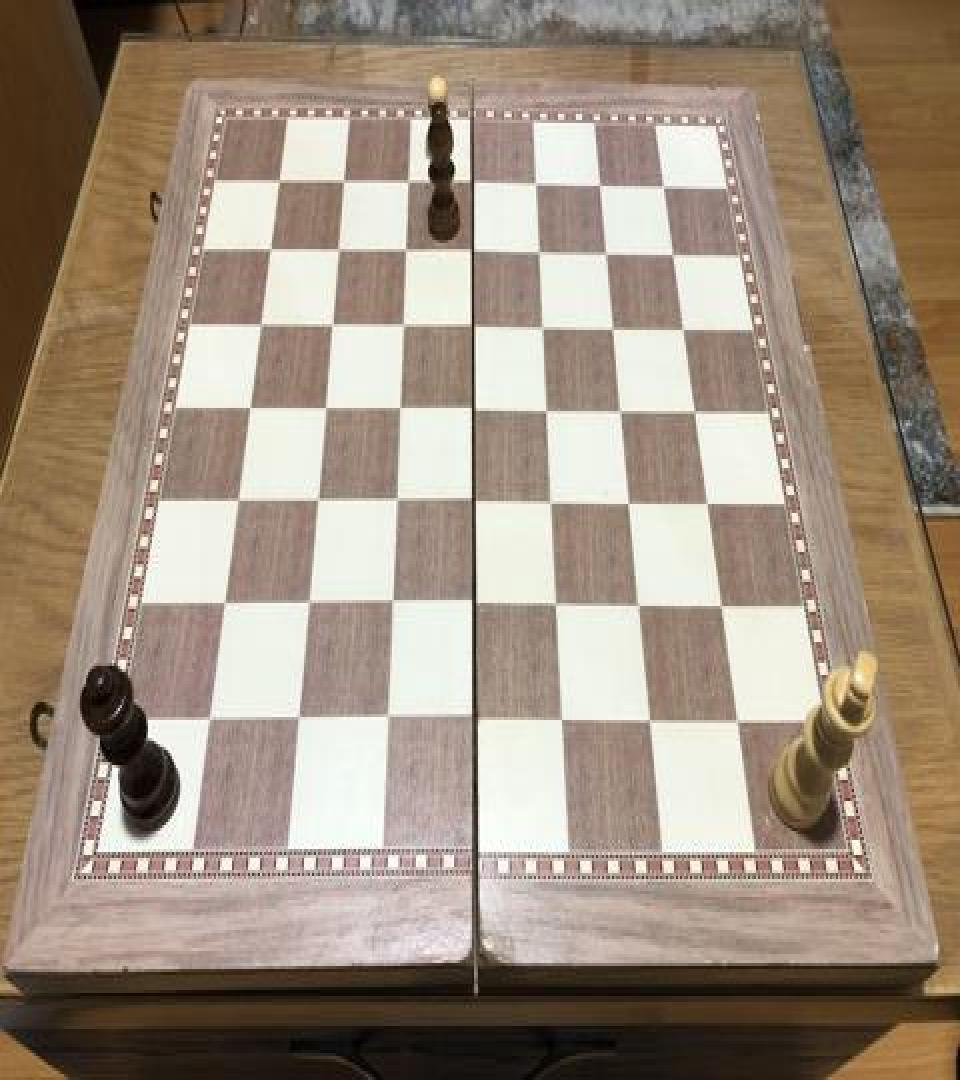xcorner: (545, 586, 569, 623), (463, 586, 487, 623), (726, 703, 750, 740), (639, 703, 663, 740), (552, 703, 576, 740), (648, 171, 672, 207), (586, 171, 610, 207), (523, 170, 547, 206), (460, 168, 484, 204), (396, 168, 420, 204), (333, 166, 357, 202), (269, 165, 293, 201), (658, 238, 682, 274), (592, 237, 616, 273), (526, 237, 550, 273), (460, 236, 484, 272), (394, 234, 418, 270), (327, 234, 351, 270), (261, 232, 285, 268), (669, 312, 693, 348), (600, 312, 624, 348), (530, 310, 554, 346), (461, 309, 485, 345), (391, 309, 415, 345), (321, 308, 345, 344), (251, 308, 275, 344), (681, 394, 705, 430), (608, 393, 632, 429), (535, 393, 559, 429), (461, 392, 485, 428), (388, 392, 412, 428), (314, 390, 338, 426), (240, 390, 264, 426), (694, 486, 718, 522), (617, 484, 641, 520), (540, 484, 564, 520), (462, 483, 486, 519), (384, 483, 408, 519), (306, 482, 330, 518), (228, 482, 252, 518), (709, 588, 733, 624), (627, 588, 651, 624), (381, 585, 405, 621), (298, 585, 322, 621), (215, 585, 239, 621), (464, 702, 488, 738), (376, 702, 400, 738), (288, 702, 312, 738), (200, 700, 224, 736)
